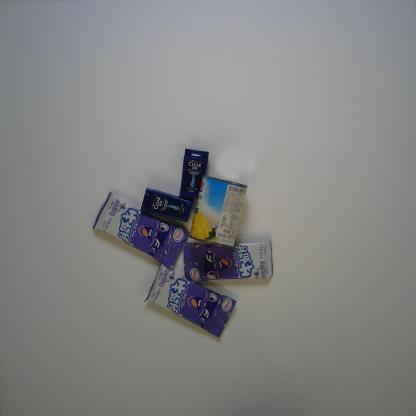Candy: (92, 192, 190, 270), (144, 264, 237, 338), (183, 239, 273, 283)
Canned Food: (189, 175, 248, 248)
Personal Hygiene: (140, 187, 192, 221), (179, 149, 209, 199)
